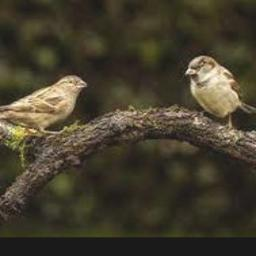Sparrow: (184, 55, 256, 130), (0, 73, 87, 133)
